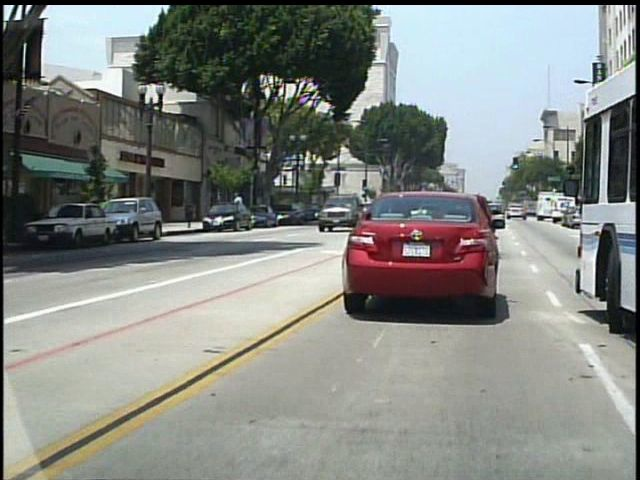person: (235, 190, 248, 224)
